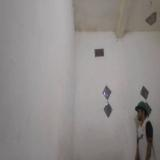Helmet: (135, 100, 147, 114)
